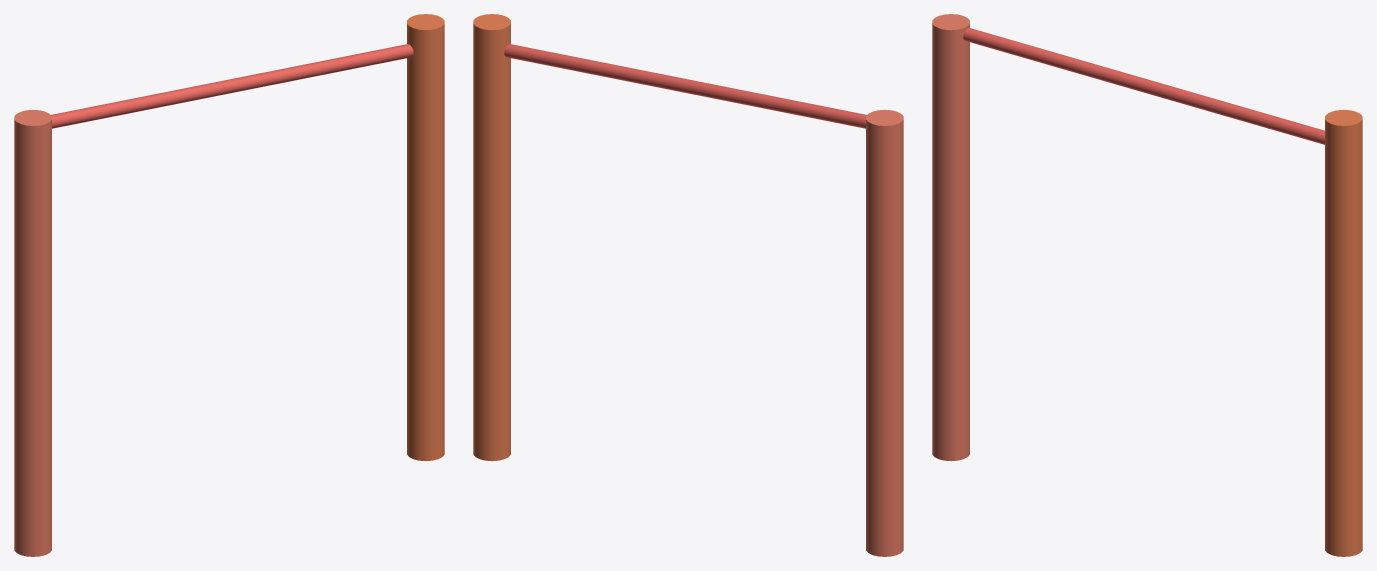
Rendered from redbar2.glb.
3 views of the same model, side by side, from view 1: azimuth 30°, elevation 25°; view 2: azimuth 150°, elevation 25°; view 3: azimuth 330°, elevation 25° (orthographic).
Visible parts, largest first — view 1: Cylinder002, Cylinder001, Cylinder003; view 2: Cylinder002, Cylinder001, Cylinder003; view 3: Cylinder001, Cylinder002, Cylinder003.
Boxes of the visible parts, x1,y1,x2,y2 form: Cylinder002: (14, 109, 51, 556); Cylinder001: (407, 14, 444, 461); Cylinder003: (51, 44, 413, 128); Cylinder002: (866, 109, 903, 556); Cylinder001: (473, 14, 510, 461); Cylinder003: (504, 44, 866, 128); Cylinder001: (1325, 109, 1362, 556); Cylinder002: (932, 14, 969, 461); Cylinder003: (963, 27, 1324, 144).
Size of the model in its own units: 0.6314 by 0.6106 by 0.0485.
